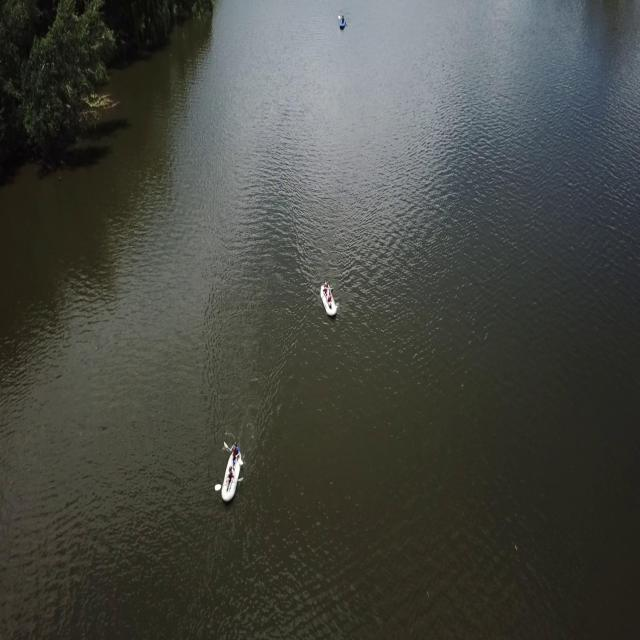kayak: (218, 443, 246, 507), (318, 280, 342, 320), (338, 13, 348, 32)
